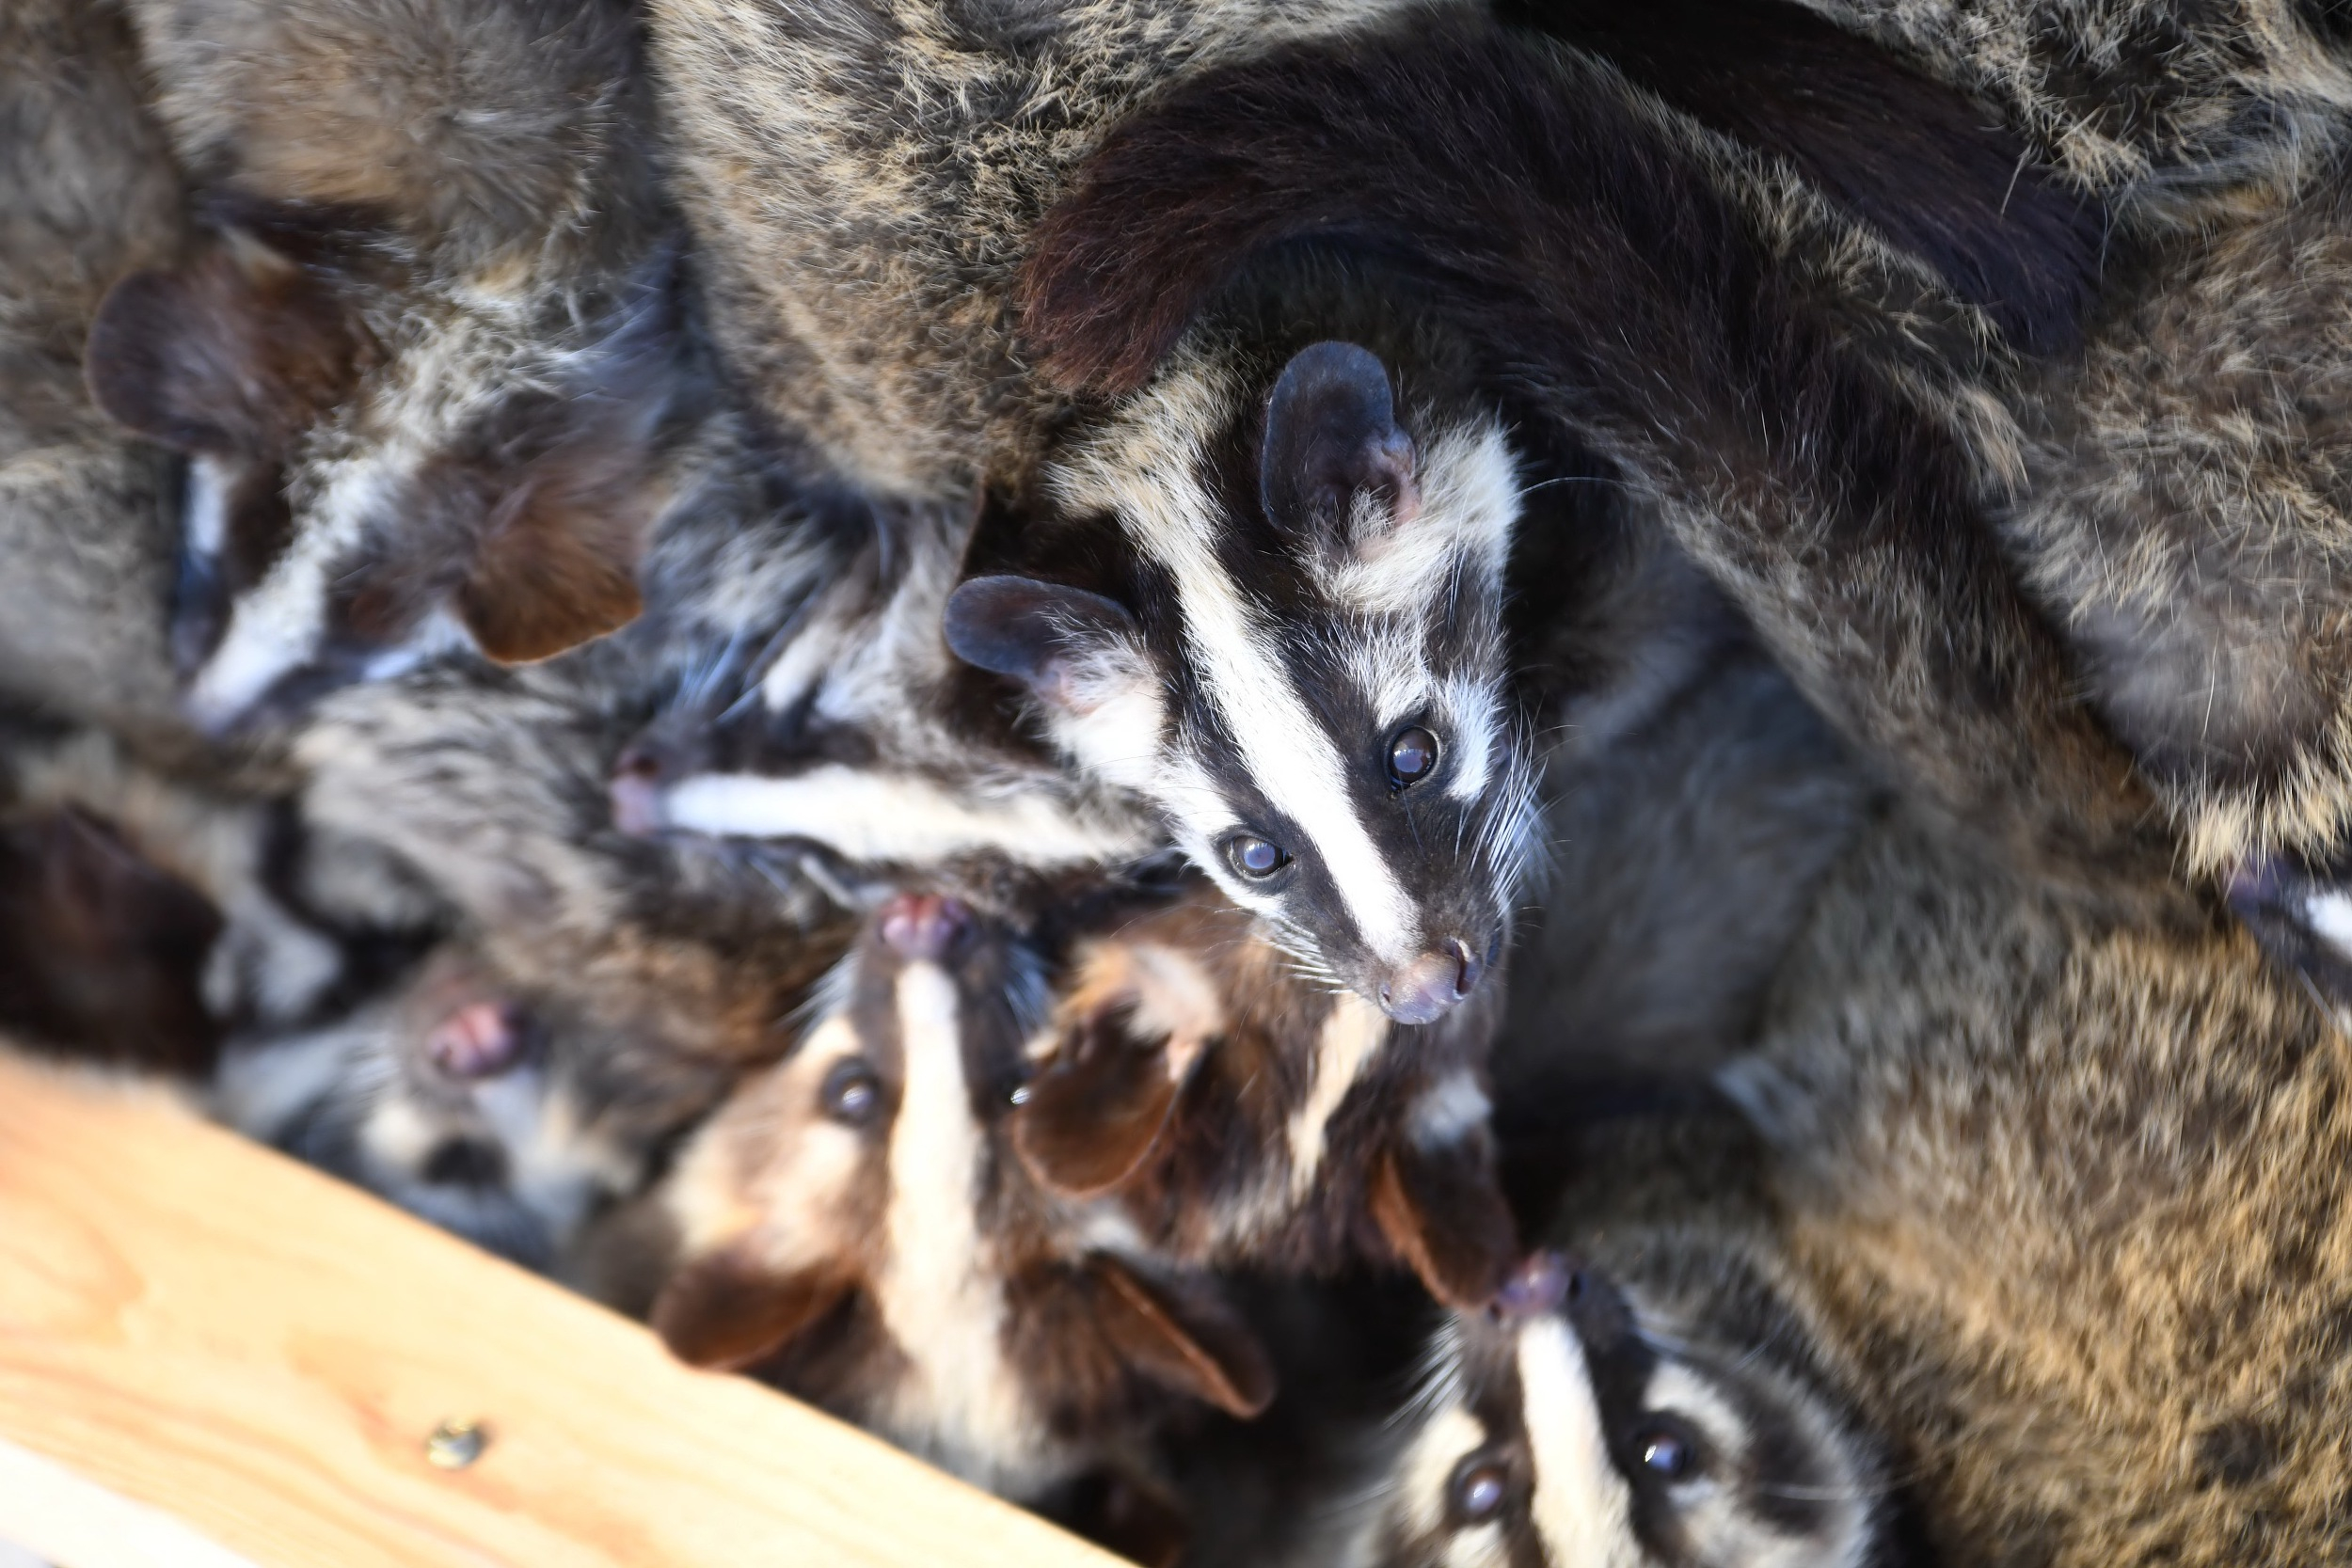Civet: (961, 352, 1578, 1088), (1206, 1232, 1983, 1568)
